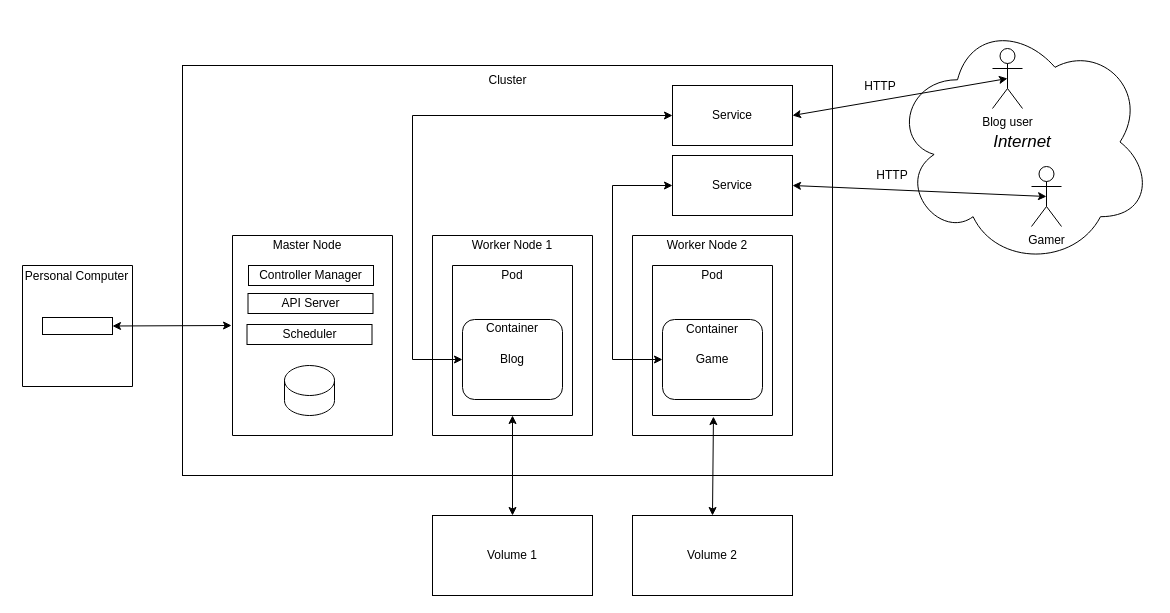
This 1170x613 diagram has some shape labels left out. Each missing label, with the centre of its shape:
"etcd" belongs at [309,390].
"kubectl" belongs at [77,325].
